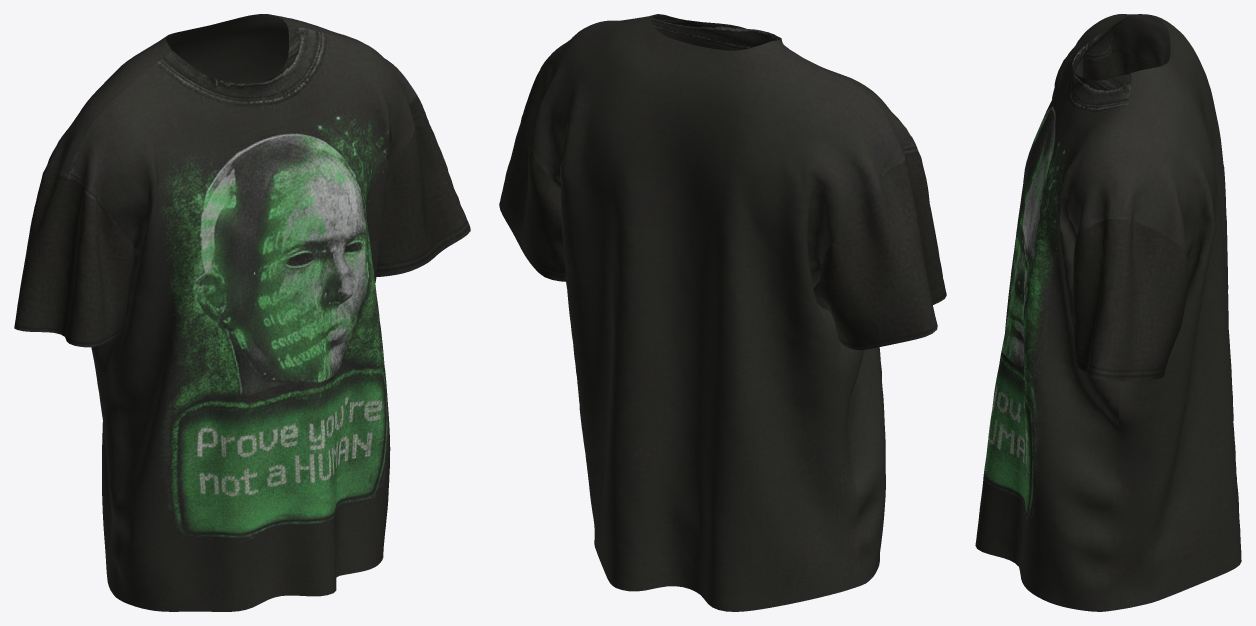
The picture shows the model from 3 angles, left to right: view 1: azimuth 30°, elevation 25°; view 2: azimuth 150°, elevation 25°; view 3: azimuth 270°, elevation 25°; orthographic projection. The views are drawn at different scales.
Parts seen in each view (by area): view 1: Clanker tokyo.002; view 2: Clanker tokyo.002; view 3: Clanker tokyo.002.
Part boxes in pixels (bbox=[...]): Clanker tokyo.002: bbox=[14, 14, 470, 611]; Clanker tokyo.002: bbox=[499, 14, 946, 611]; Clanker tokyo.002: bbox=[975, 14, 1241, 611].
Bounding box in the file's own units: 0.6357 × 0.7283 × 0.3433.
1 material, 1 textured.
